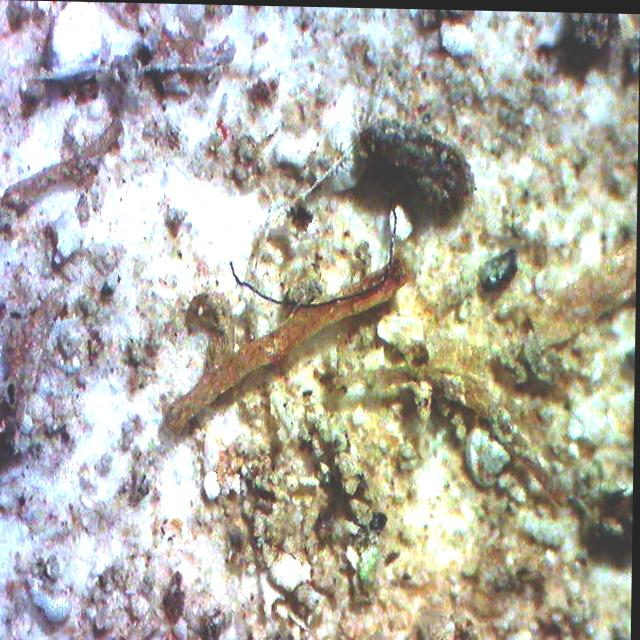microplastic: (230, 205, 397, 307)
